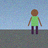person: (28, 9, 42, 34)
